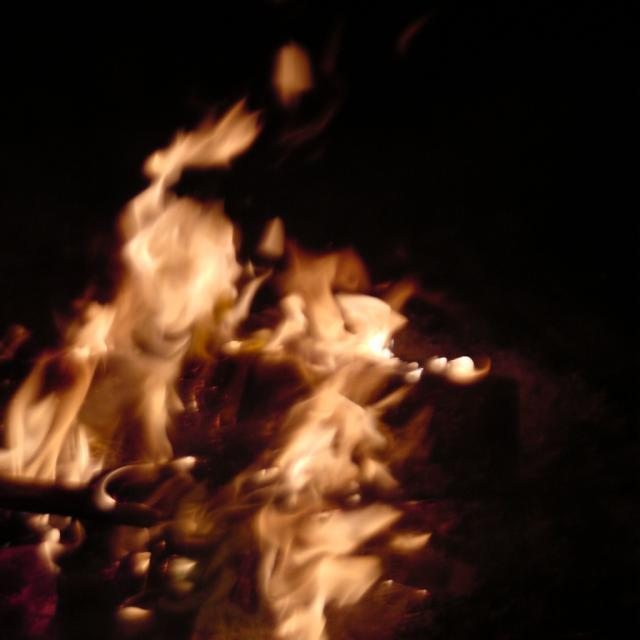Fire: (18, 211, 240, 480), (252, 390, 400, 606)
